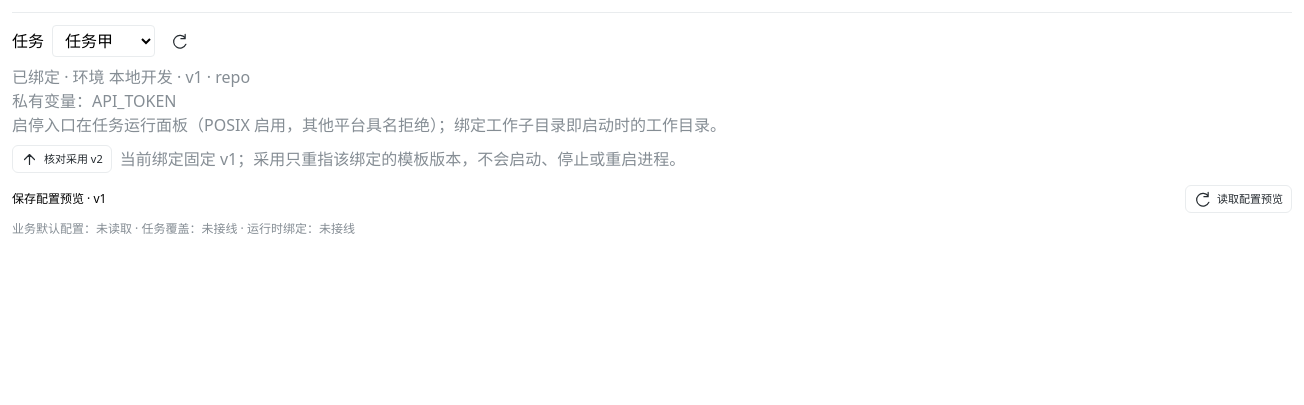
adopts v2 only after a confirmation that shows from → to and the restart-needed list
Check: the text "已绑定 · 环境 本地开发 · v1 · repo" is shown, box top-left (12, 66), bottom-right (250, 88)
Click the button "核对采用 v2" at (62, 159), box top-left (12, 145), bottom-right (112, 173)
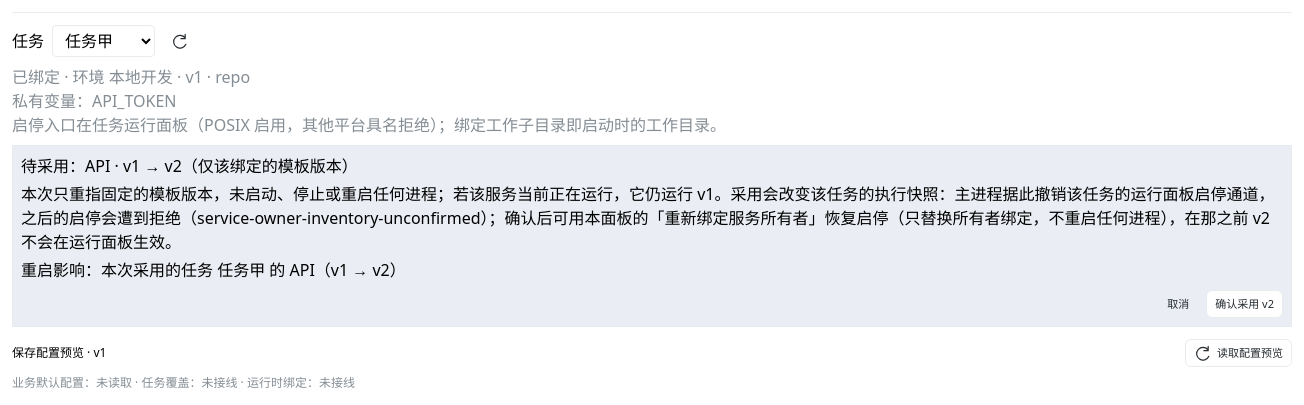
Check: the text "待采用：API · v1 → v2（仅该绑定的模板版本）" is shown, box top-left (21, 155), bottom-right (358, 177)
Check: the text "重启影响：本次采用的任务 任务甲 的 API（v1 → v2）" is shown, box top-left (21, 259), bottom-right (406, 281)
Check: the text "未启动、停止或重启任何进程" is shown, box top-left (21, 183), bottom-right (705, 205)
Click the button "确认采用 v2" at (1245, 304), box top-left (1206, 290), bottom-right (1283, 318)
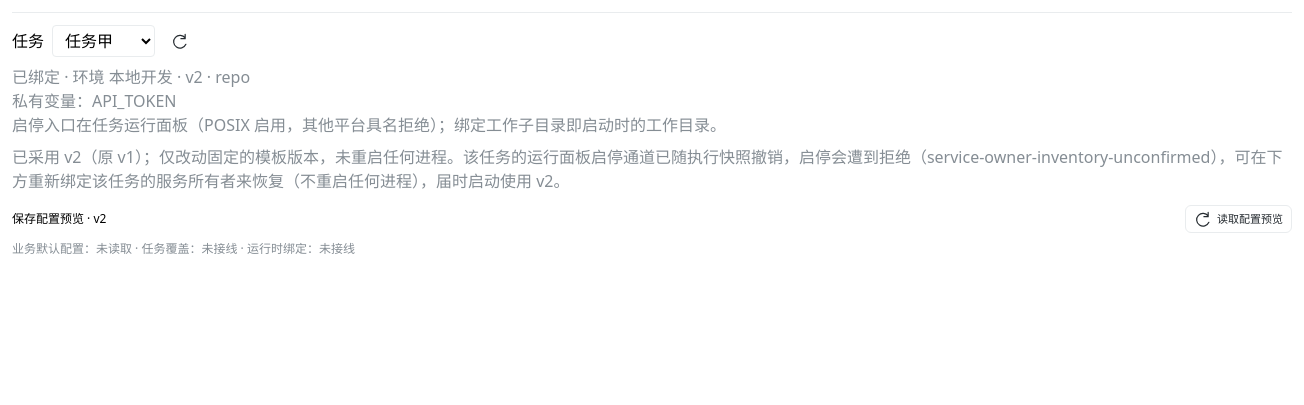
Check: the text "已采用 v2（原 v1）" is shown, box top-left (12, 145), bottom-right (1292, 193)
Check: the text "可在下方重新绑定该任务的服务所有者来恢复" is shown, box top-left (12, 146), bottom-right (1282, 192)
Check: the text "已绑定 · 环境 本地开发 · v2 · repo" is shown, box top-left (12, 66), bottom-right (250, 88)
